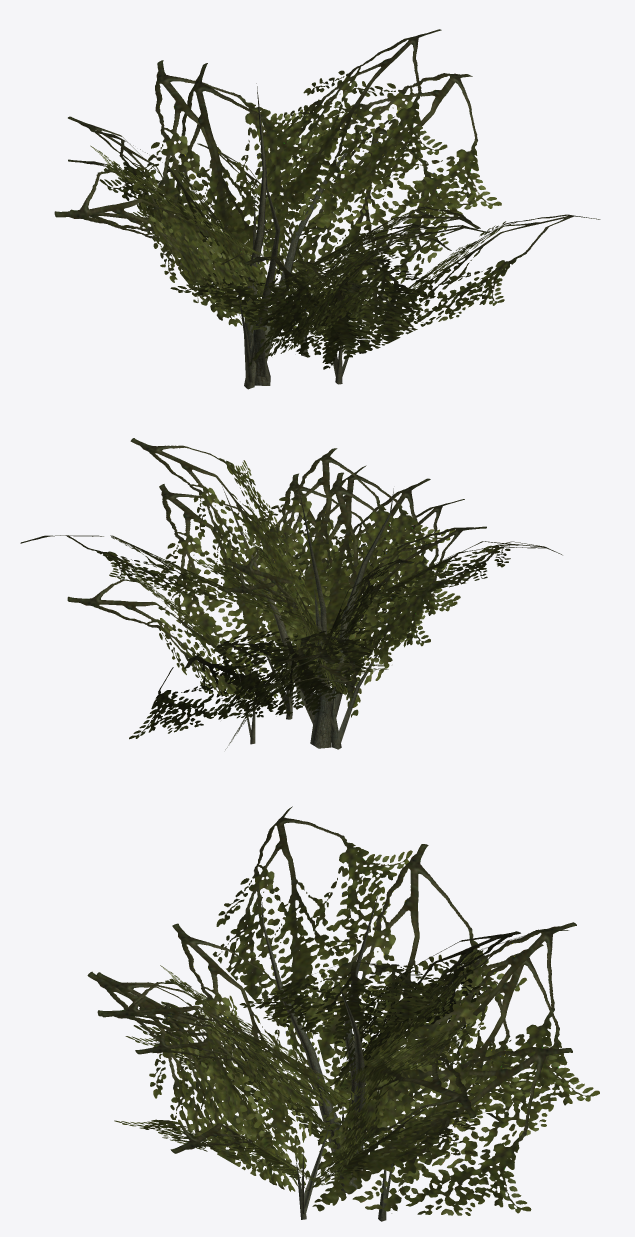
File: bush5.glb
3 views of the same model, one above another, from view 1: azimuth 30°, elevation 25°; view 2: azimuth 150°, elevation 25°; view 3: azimuth 270°, elevation 25° (orthographic). The views are drawn at different scales.
Visible parts, largest first — view 1: Bush5; view 2: Bush5; view 3: Bush5.
Part boxes in pixels (<box>): Bush5: <box>54,29,600,389</box>; Bush5: <box>20,438,562,749</box>; Bush5: <box>87,806,599,1221</box>.
Bounding box in the file's own units: 10.23 × 5.23 × 8.84.
2 materials, 2 textured.
